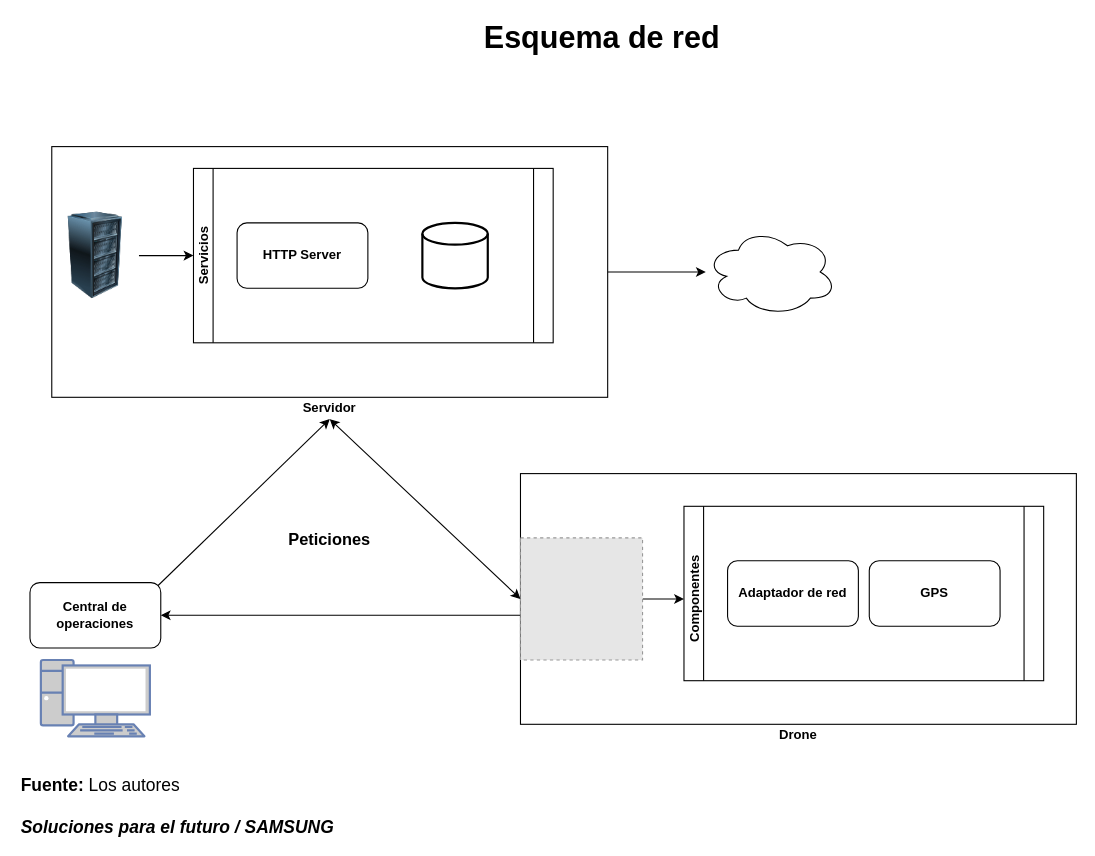
This 1095x856 diagram has some shape labels left out. Grey dashed boxes stand in for pictures. The shapes that lost their labels are listed below. From the top down, each one's centre as x and y in pixels, then its label:
At [454,255]: "DB server".
At [771,271]: "Google MAPS".
